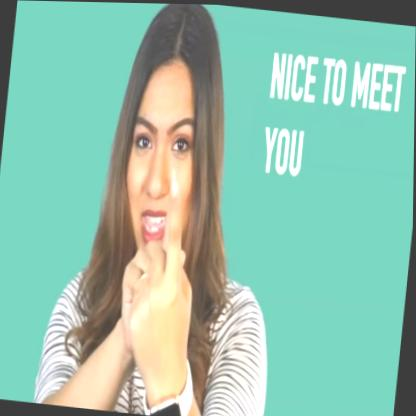NiceToMeetYou: (109, 153, 209, 396)
